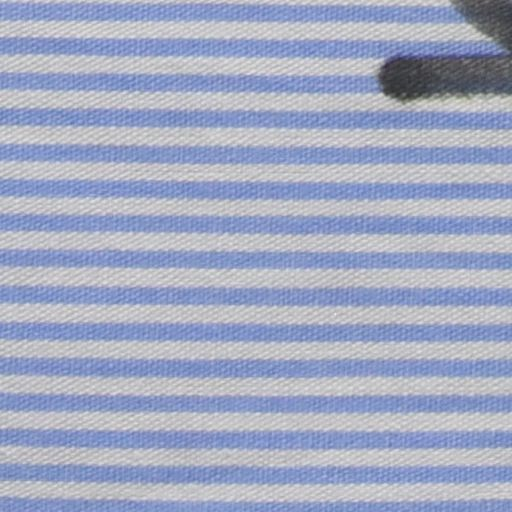defect: (385, 1, 512, 98)
